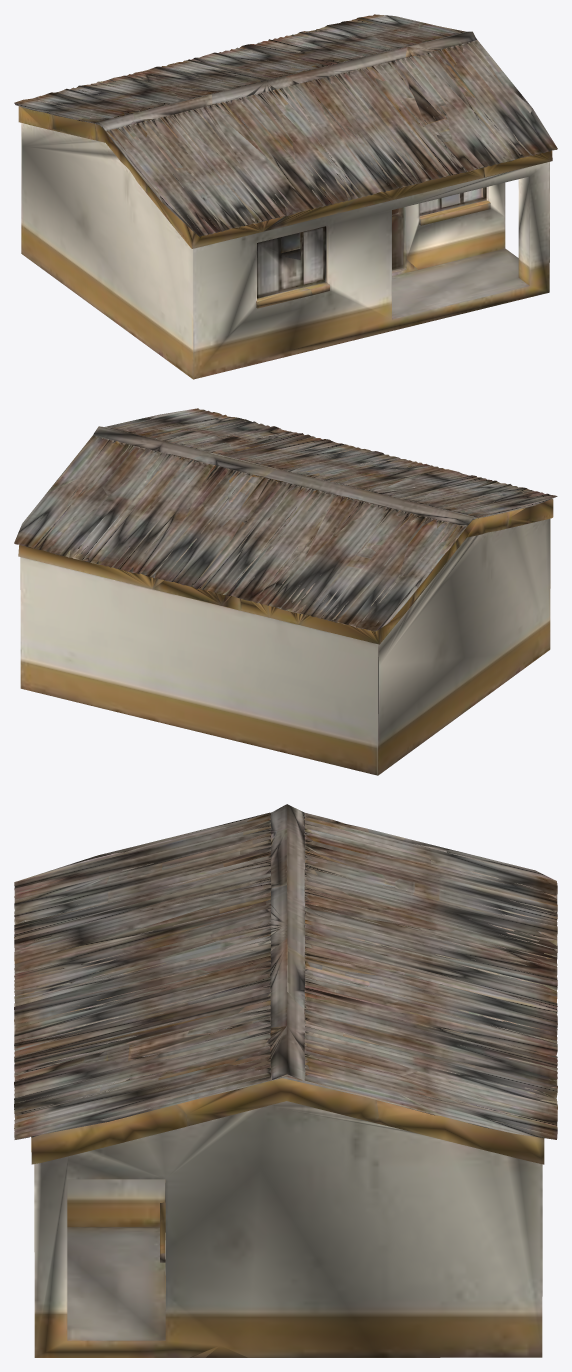
Rendered from rdp.glb.
3 renders of one model, top to bottom at view 1: azimuth 30°, elevation 25°; view 2: azimuth 150°, elevation 25°; view 3: azimuth 270°, elevation 25°, orthographic. The views are drawn at different scales.
Size of the model in its own units: 1.9 by 0.9584 by 1.62.
Materials: 1 (1 with a texture image).
